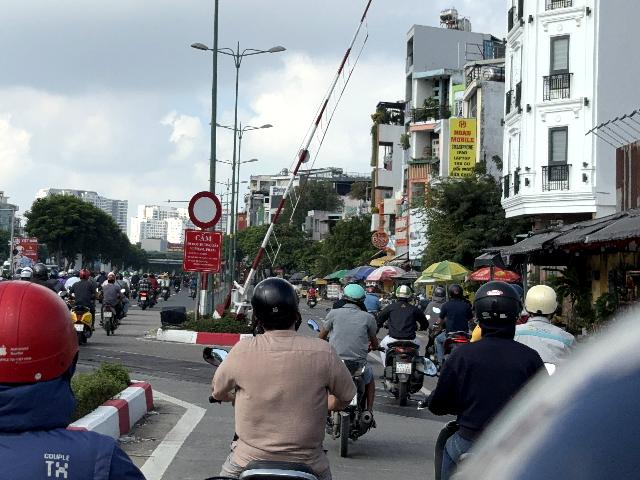duong-cam: (188, 191, 222, 229)
